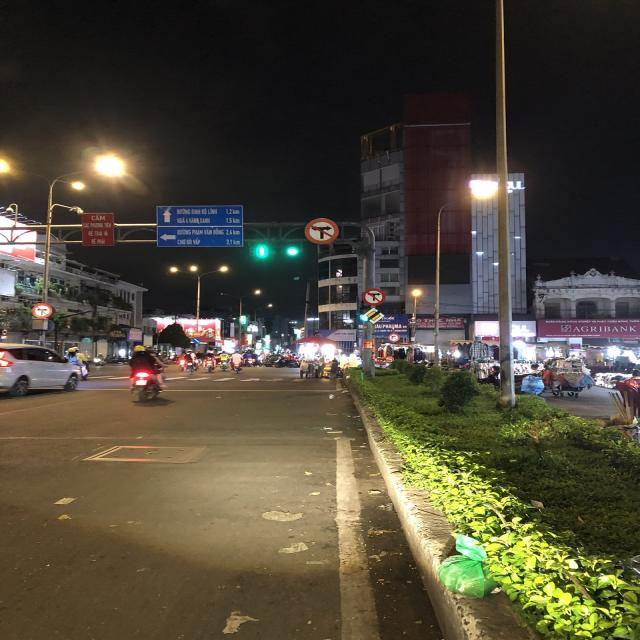Bien bao cam re phai: (387, 332, 401, 343)
